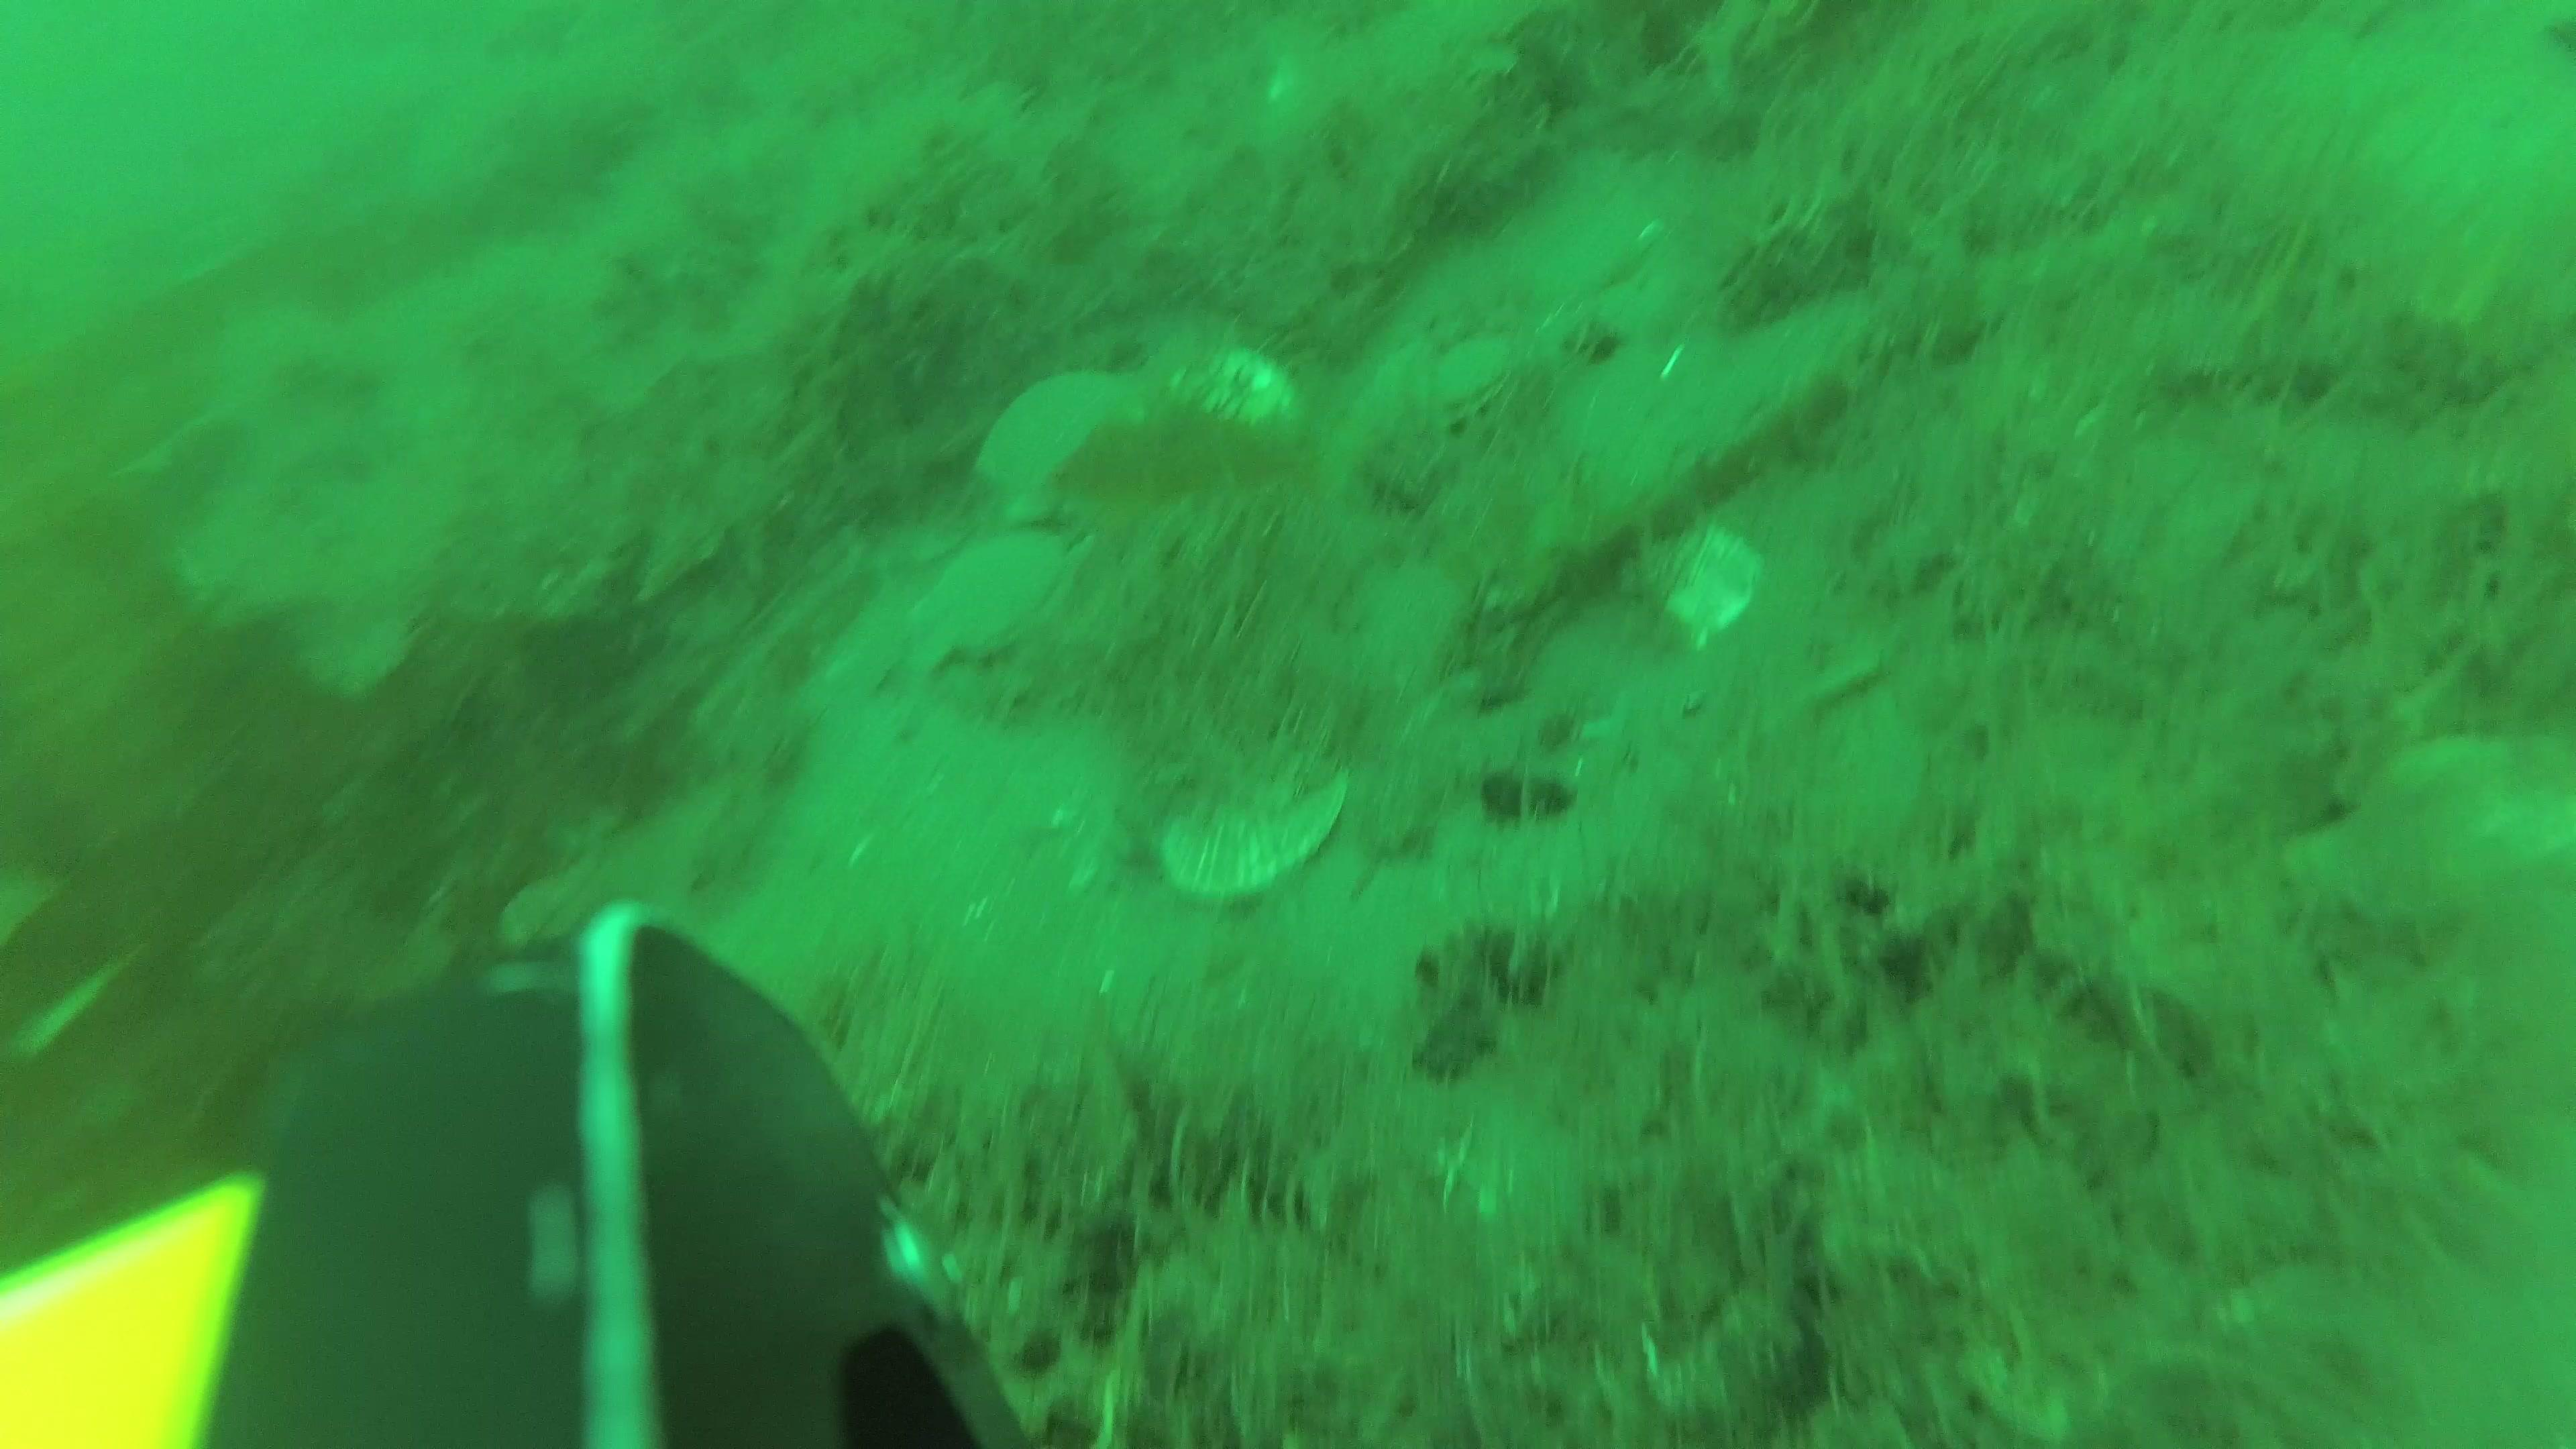scallop: (1141, 741, 1343, 893), (895, 533, 1077, 667), (977, 373, 1136, 499), (1624, 525, 1762, 639), (1177, 356, 1304, 446), (1410, 340, 1509, 419)
